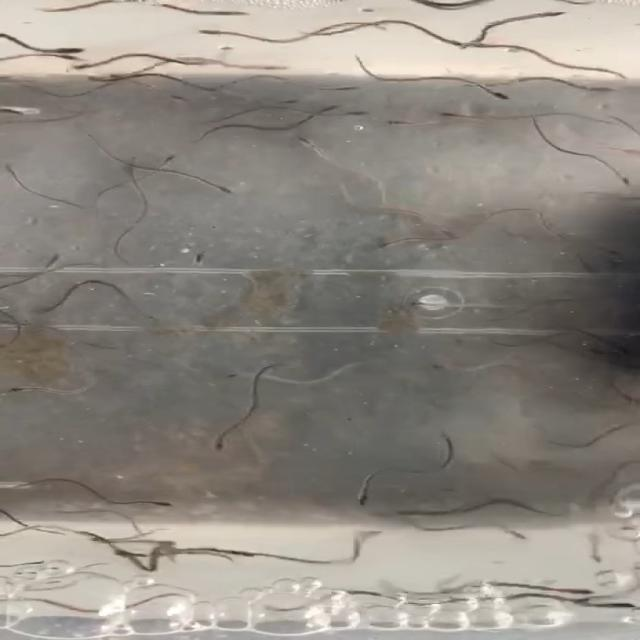active_glass_eel: (427, 27, 470, 53), (285, 135, 332, 158), (194, 4, 258, 20), (518, 6, 574, 24), (538, 580, 594, 598), (215, 541, 268, 560), (466, 32, 510, 54), (433, 107, 482, 126), (158, 89, 200, 111), (322, 105, 368, 125), (576, 598, 633, 614), (0, 379, 50, 397), (202, 430, 236, 456), (84, 532, 133, 550), (32, 48, 83, 65), (323, 77, 375, 93), (380, 116, 432, 132), (139, 490, 180, 510), (576, 545, 615, 566), (492, 526, 538, 543), (87, 67, 126, 87), (476, 86, 516, 105), (186, 244, 219, 267), (38, 40, 88, 55), (63, 54, 102, 73), (195, 26, 262, 37), (587, 242, 623, 262), (30, 300, 71, 317), (152, 150, 185, 171), (348, 489, 378, 512), (212, 366, 261, 380), (112, 155, 140, 179), (34, 255, 66, 276), (434, 222, 471, 240), (604, 168, 633, 190), (424, 363, 472, 376), (106, 549, 153, 562), (0, 102, 33, 118), (371, 239, 404, 255), (265, 97, 303, 110), (206, 184, 246, 196), (400, 294, 428, 310)
